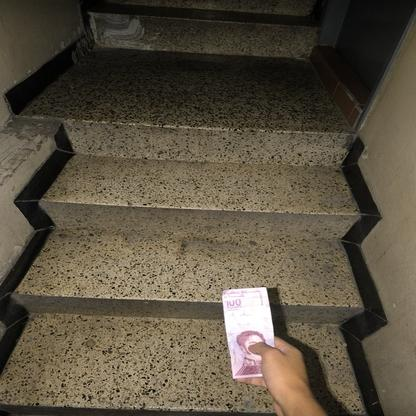one_hundred-front-vef: (221, 286, 275, 380)
